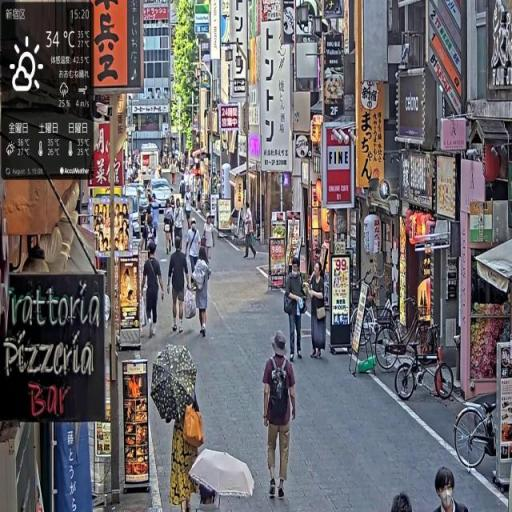person: (262, 332, 298, 503), (284, 258, 308, 363), (168, 235, 191, 338), (142, 242, 166, 340), (308, 259, 329, 361), (192, 248, 213, 341), (435, 467, 468, 512), (200, 214, 216, 271), (244, 203, 259, 262), (164, 202, 176, 255)
